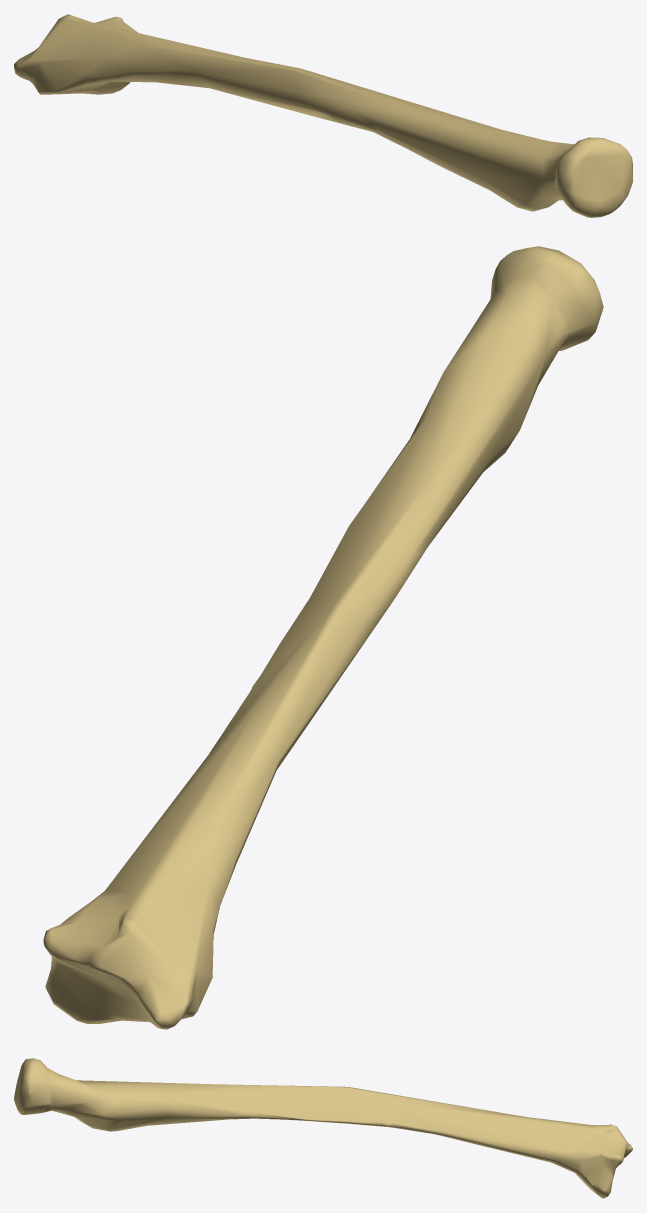
The picture shows the model from 3 angles, top to bottom: view 1: azimuth 30°, elevation 25°; view 2: azimuth 150°, elevation 25°; view 3: azimuth 270°, elevation 25°; orthographic projection. The views are drawn at different scales.
Visible parts, largest first — view 1: 右侧桡骨; view 2: 右侧桡骨; view 3: 右侧桡骨.
Boxes of the visible parts, x1,y1,x2,y2 form: 右侧桡骨: (14, 14, 632, 217); 右侧桡骨: (43, 246, 603, 1029); 右侧桡骨: (14, 1058, 632, 1198).
Size of the model in its own units: 0.091 by 0.1012 by 0.3492.
